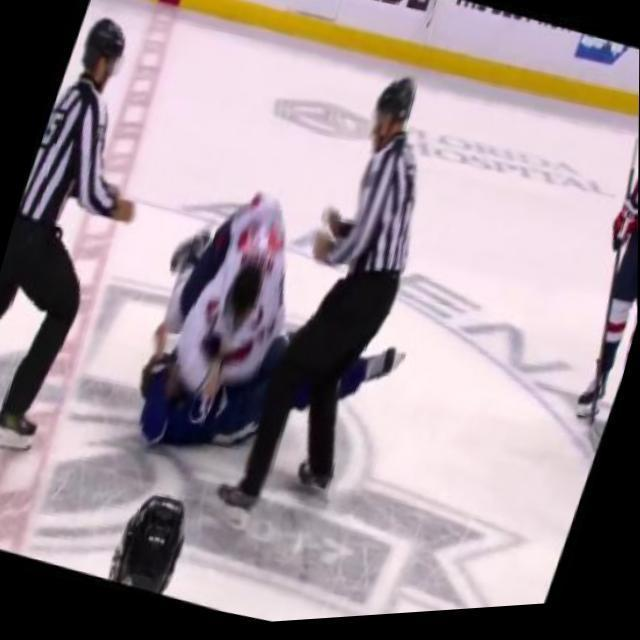fight: (104, 162, 335, 504)
